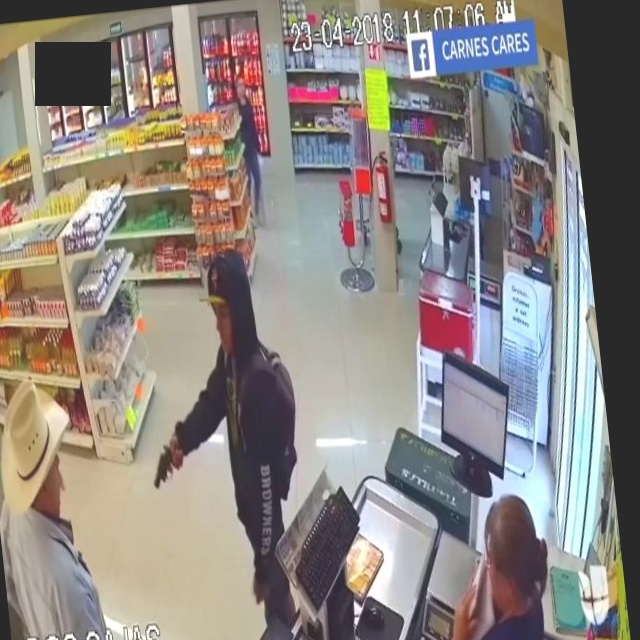gun: (145, 430, 184, 508)
